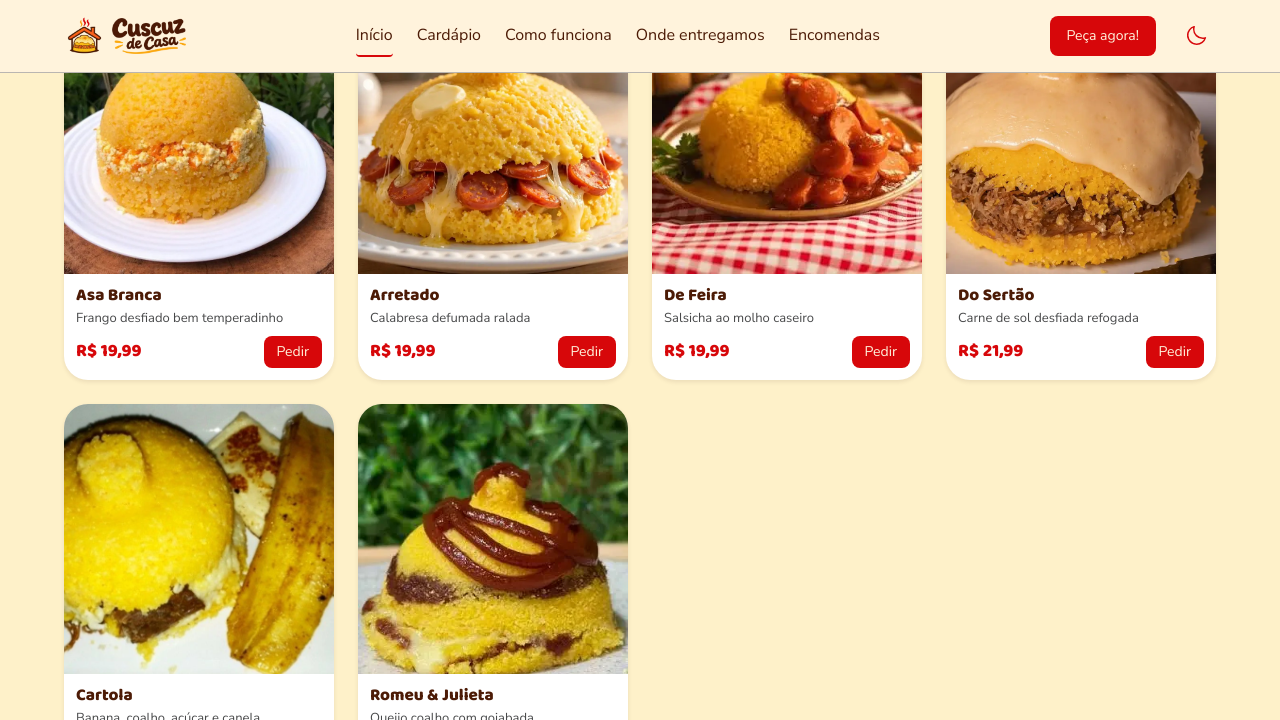
Test: sequência do pedido: prato → capriche → bebida › lista mostra os novos nomes e 'Pedir' do salgado abre o Detalhe
The image size is (1280, 720).
(page scrolled)
Expected: the link "Asa Branca" is shown, x1=76 y1=286 x2=162 y2=306
Expected: the link "Do Sertão" is shown, x1=958 y1=286 x2=1034 y2=306
Click the link with aria-label "Pedir Do Sertão (cuscuz)". click: (1175, 352)
box: x1=1146 y1=336 x2=1204 y2=368
(page scrolled)
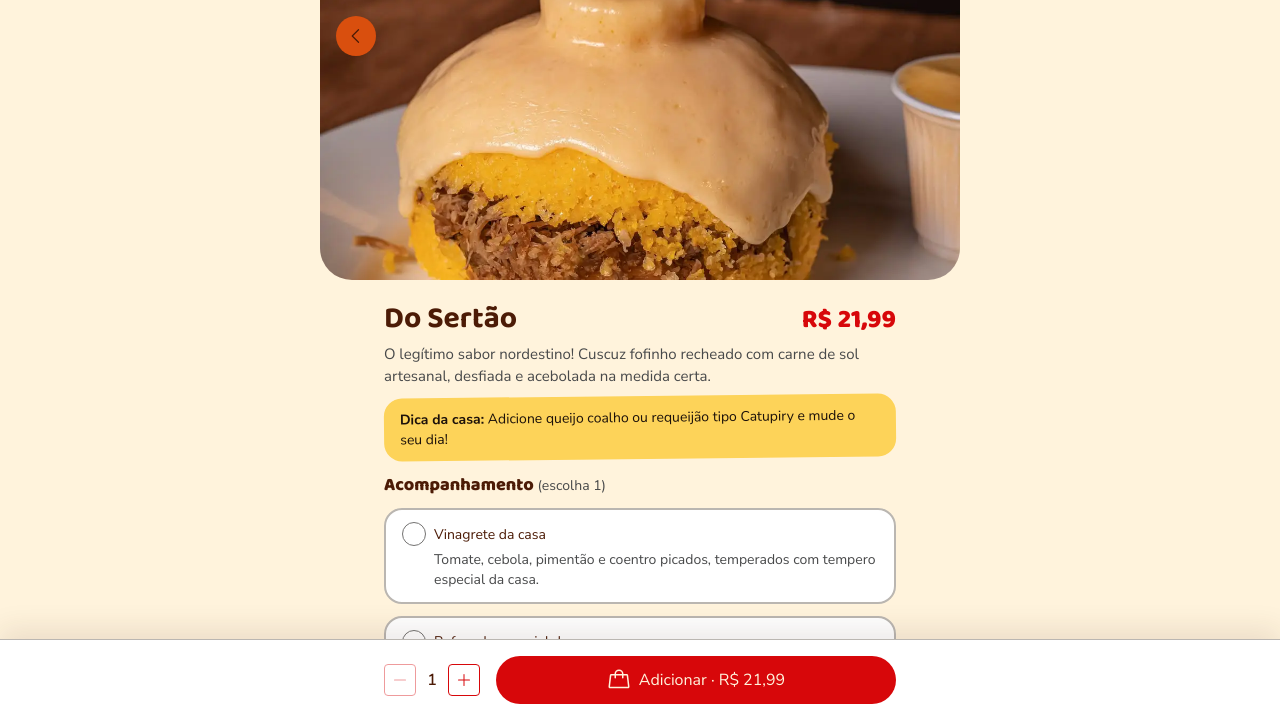
Now the text "Adicione queijo coalho ou requeijão tipo Catupiry" is shown, box x1=400 y1=405 x2=855 y2=449
